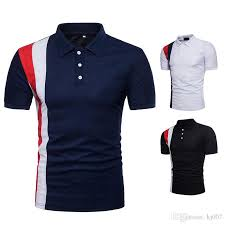S_polo shirt: (8, 21, 163, 204), (152, 117, 225, 201), (157, 28, 225, 115)
